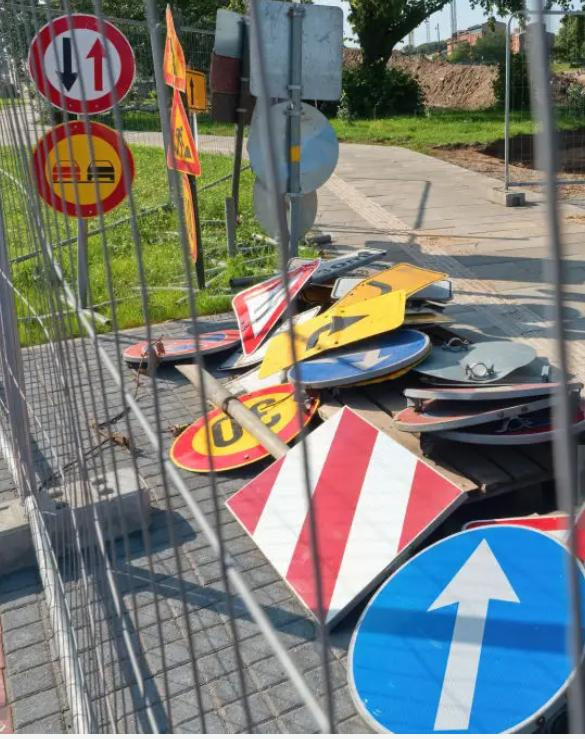obstructed_road_sign: (224, 404, 467, 628), (169, 383, 319, 473), (30, 13, 137, 113), (33, 121, 134, 218), (230, 256, 320, 356), (288, 329, 430, 384), (123, 330, 241, 358), (165, 91, 198, 175)
road_sign: (348, 524, 572, 731)
